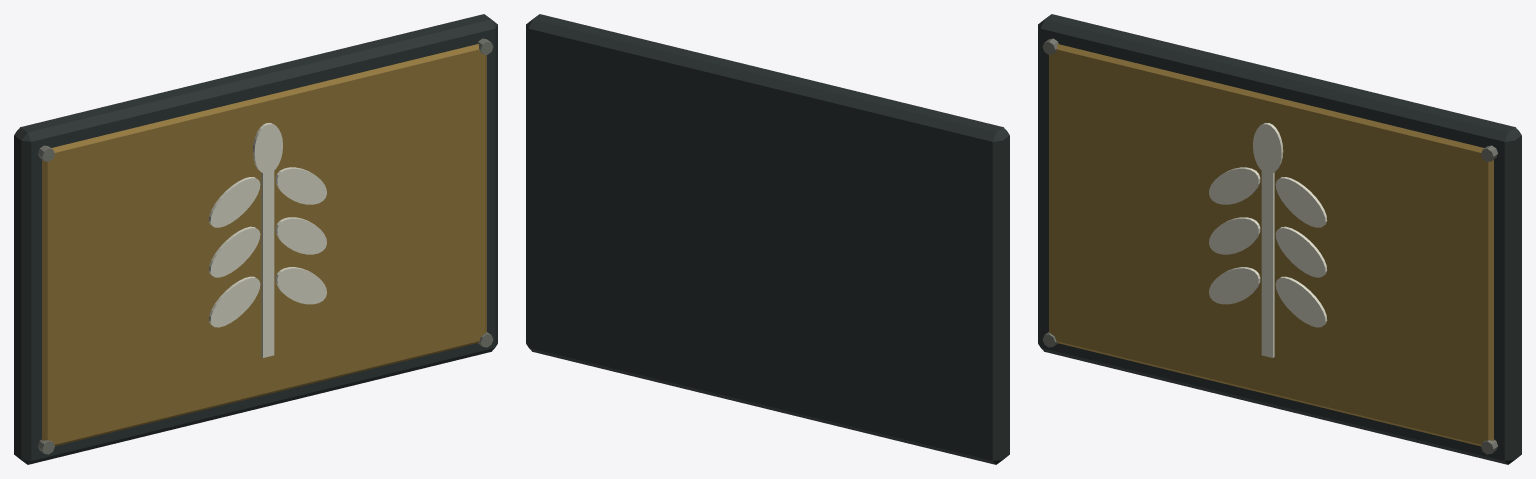
File: SM_Henhouse_Sign_Feed_A.fbx
3 views of the same model, side by side, from view 1: azimuth 30°, elevation 25°; view 2: azimuth 150°, elevation 25°; view 3: azimuth 330°, elevation 25° (orthographic).
Visible parts, largest first — view 1: SM_Henhouse_Sign_Feed_A; view 2: SM_Henhouse_Sign_Feed_A; view 3: SM_Henhouse_Sign_Feed_A.
Boxes of the visible parts, bbox=[...] form: SM_Henhouse_Sign_Feed_A: bbox=[14, 14, 497, 464]; SM_Henhouse_Sign_Feed_A: bbox=[526, 14, 1009, 464]; SM_Henhouse_Sign_Feed_A: bbox=[1038, 14, 1521, 464].
Bounding box in the file's own units: 4.4 × 60 × 40.
